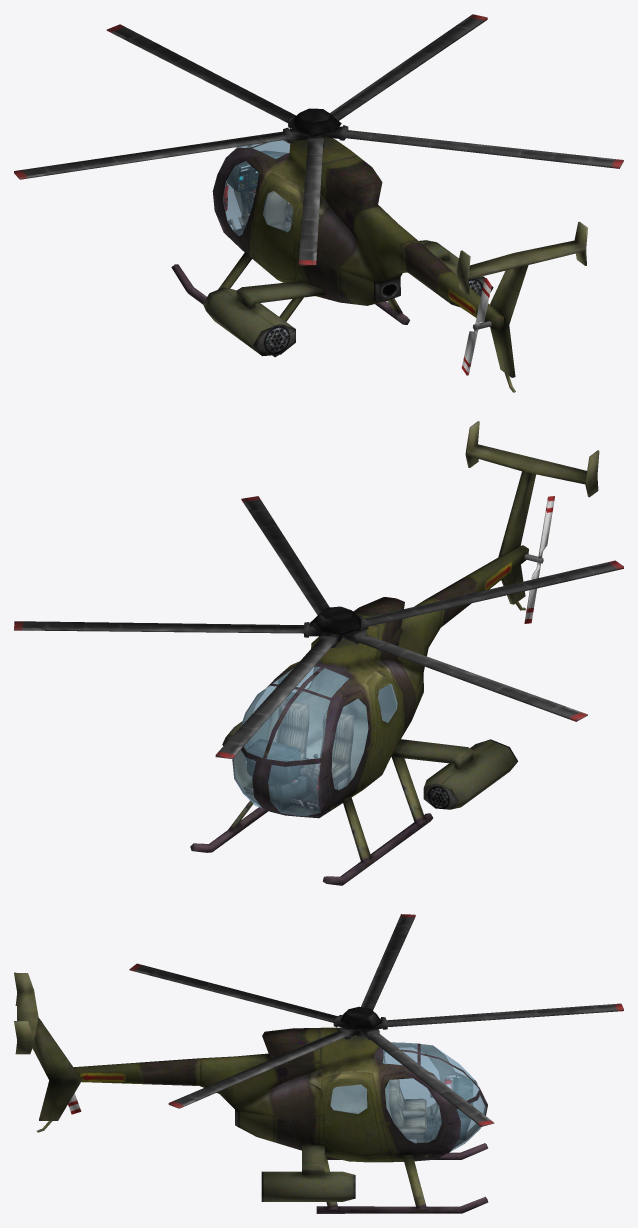
The model's file is v_heli.glb.
The picture shows the model from 3 angles, top to bottom: view 1: azimuth 30°, elevation 25°; view 2: azimuth 150°, elevation 25°; view 3: azimuth 270°, elevation 25°; orthographic projection. The views are drawn at different scales.
Parts seen in each view (by area): view 1: Body, Rotor, Rotor.001; view 2: Body, Rotor, Rotor.001; view 3: Body, Rotor.
Part boxes in pixels (<box>): Body: <box>171,137,587,392</box>; Rotor: <box>14,14,623,265</box>; Rotor.001: <box>461,278,491,375</box>; Body: <box>190,421,599,885</box>; Rotor: <box>14,496,623,758</box>; Rotor.001: <box>524,496,554,623</box>; Body: <box>14,972,488,1213</box>; Rotor: <box>129,914,623,1126</box>.
Bounding box in the file's own units: 6.07 × 2.58 × 7.4.
Materials: 3 (2 with a texture image).
